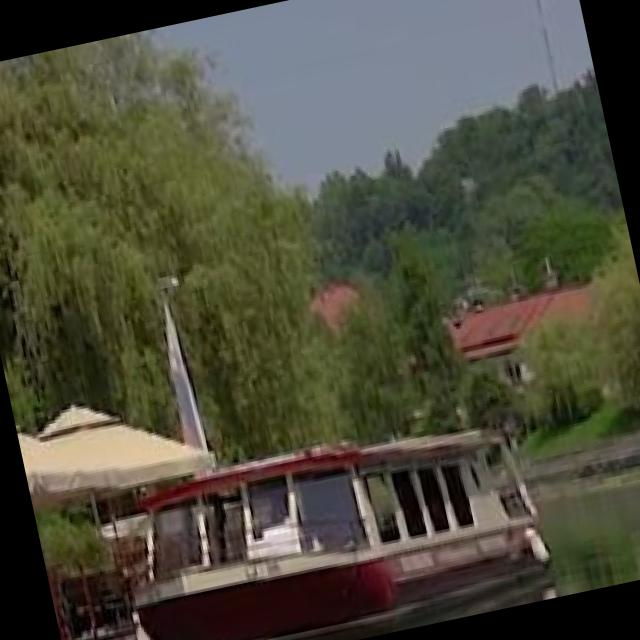boat: (99, 412, 560, 640)
